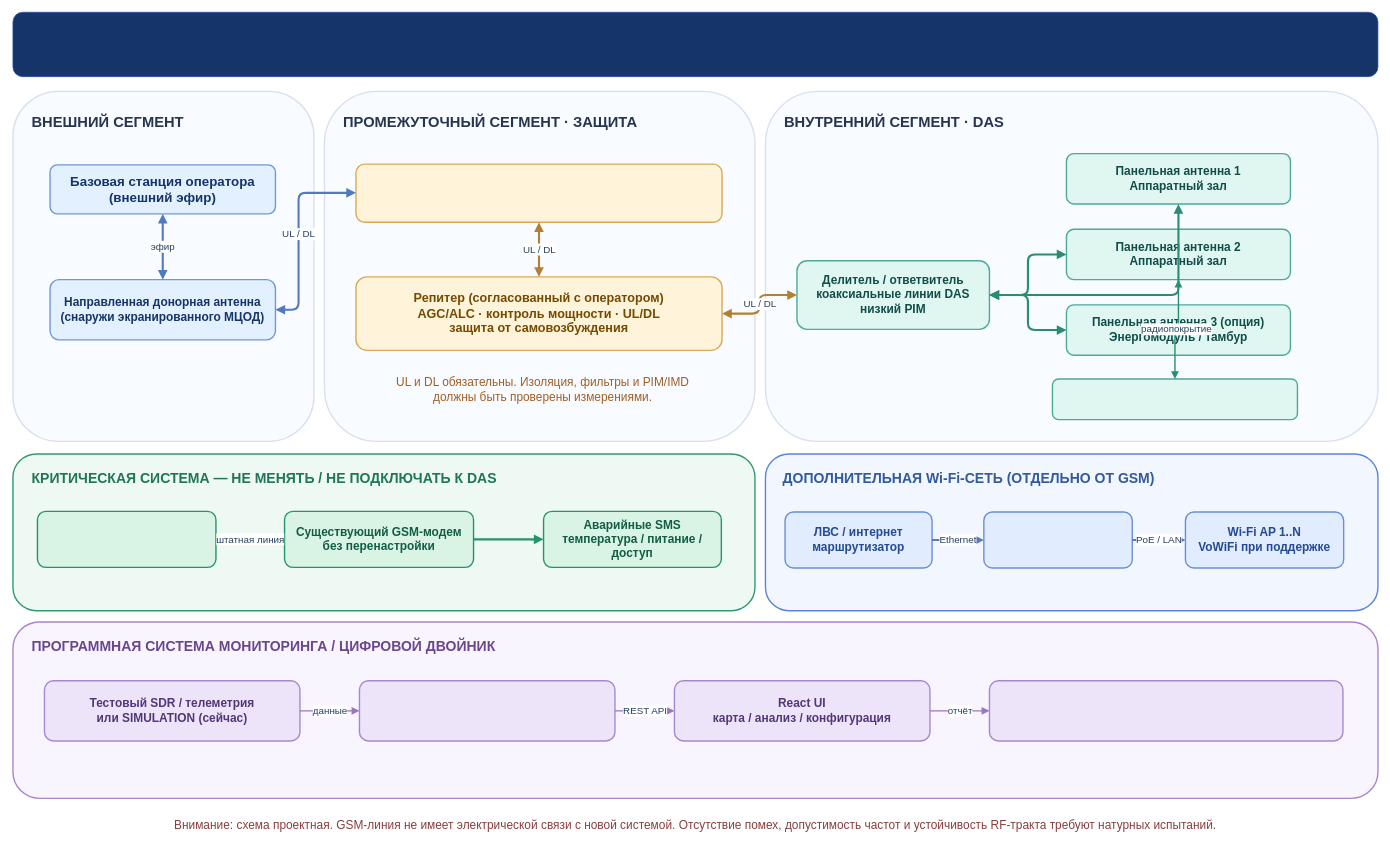
The diagram is 1390 pixels wide and 857 high, and some of its shapes have lost their labels. Each missing label, with the centre of its shape:
BPF / дуплексер / диплексер Частотная селекция, потери, линейность: (538,193)
DATARK RF GUARDIAN | АППАРАТНО-ПРОГРАММНАЯ АРХИТЕКТУРА: (695,44)
PoE-коммутатор Wi-Fi-контроллер: (1058,539)
Python FastAPI Link budget / покрытие / анализ: (486,710)
Существующая GSM-антенна 790–2700 МГц (паспорт): (126,539)
Телефоны персонала · мобильная сеть: (1174,399)
Экспорт TXT по объекту документация и предупреждения ЭМС: (1165,710)
